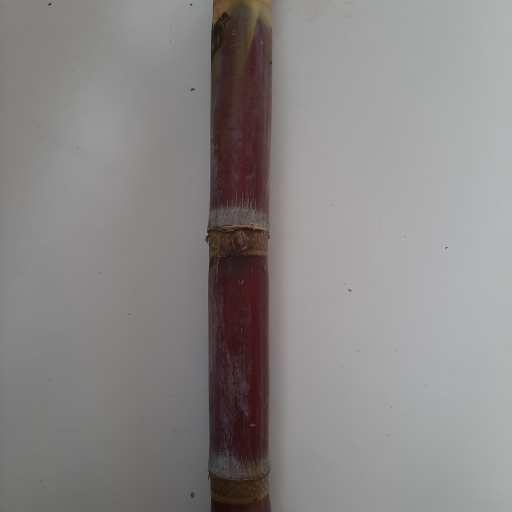Bud: (229, 227, 250, 255)
